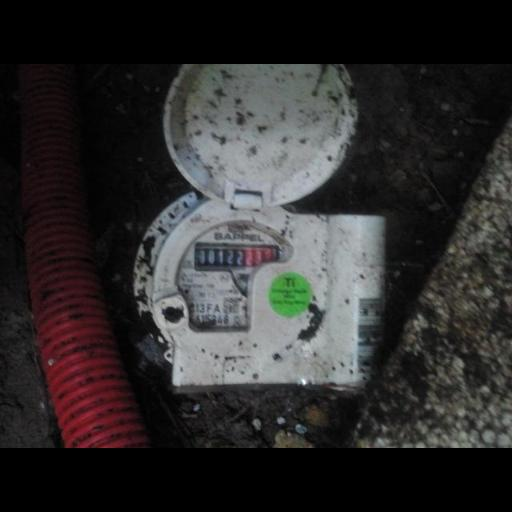0: (197, 249, 207, 267), (207, 249, 217, 267)
1: (217, 249, 227, 267)
2: (226, 249, 236, 267), (236, 249, 246, 267), (246, 249, 255, 267)
3: (255, 249, 265, 267)
border_water_meter_number: (194, 243, 280, 272)
